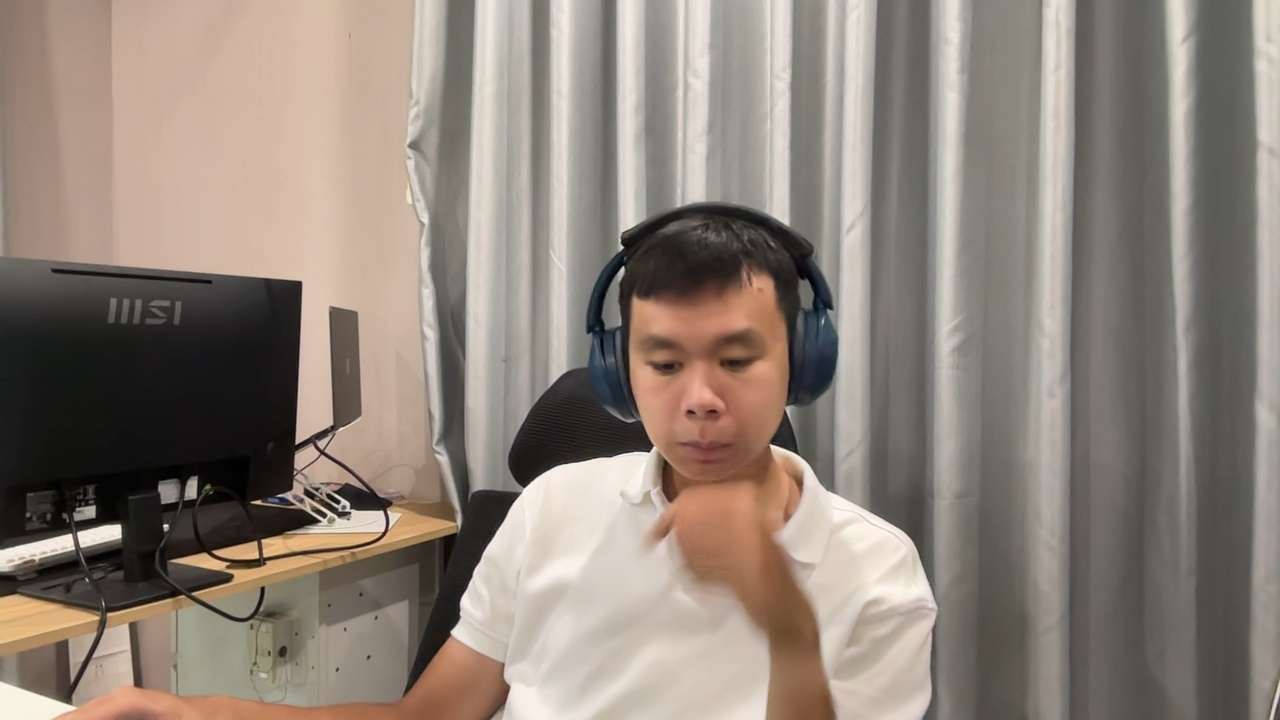over_ear: (583, 203, 839, 426), (584, 203, 839, 424)
